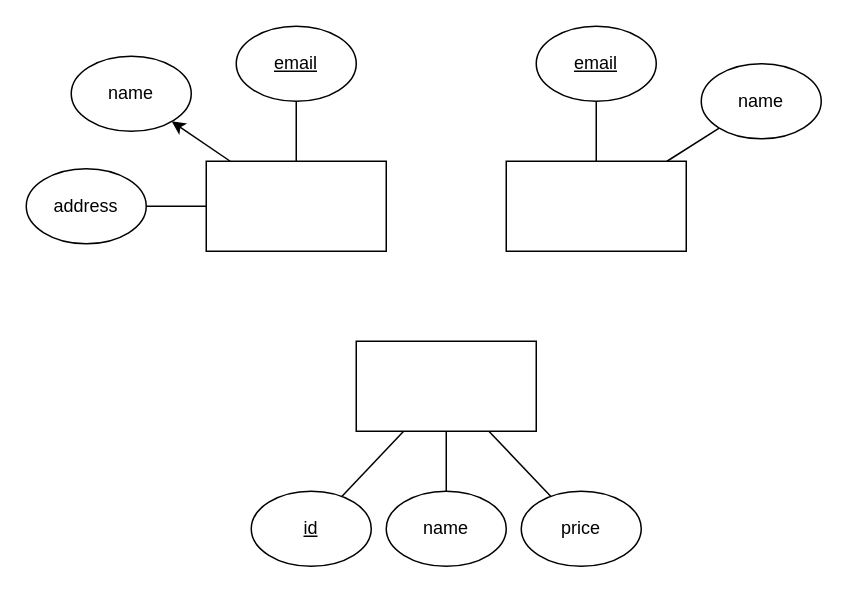
This 848x593 diagram has some shape labels left out. The centre of each missing label's shape, as x and y in pixels:
BUYER: the point at 295,205
PRODUCT: the point at 445,385
SELLER: the point at 595,205
